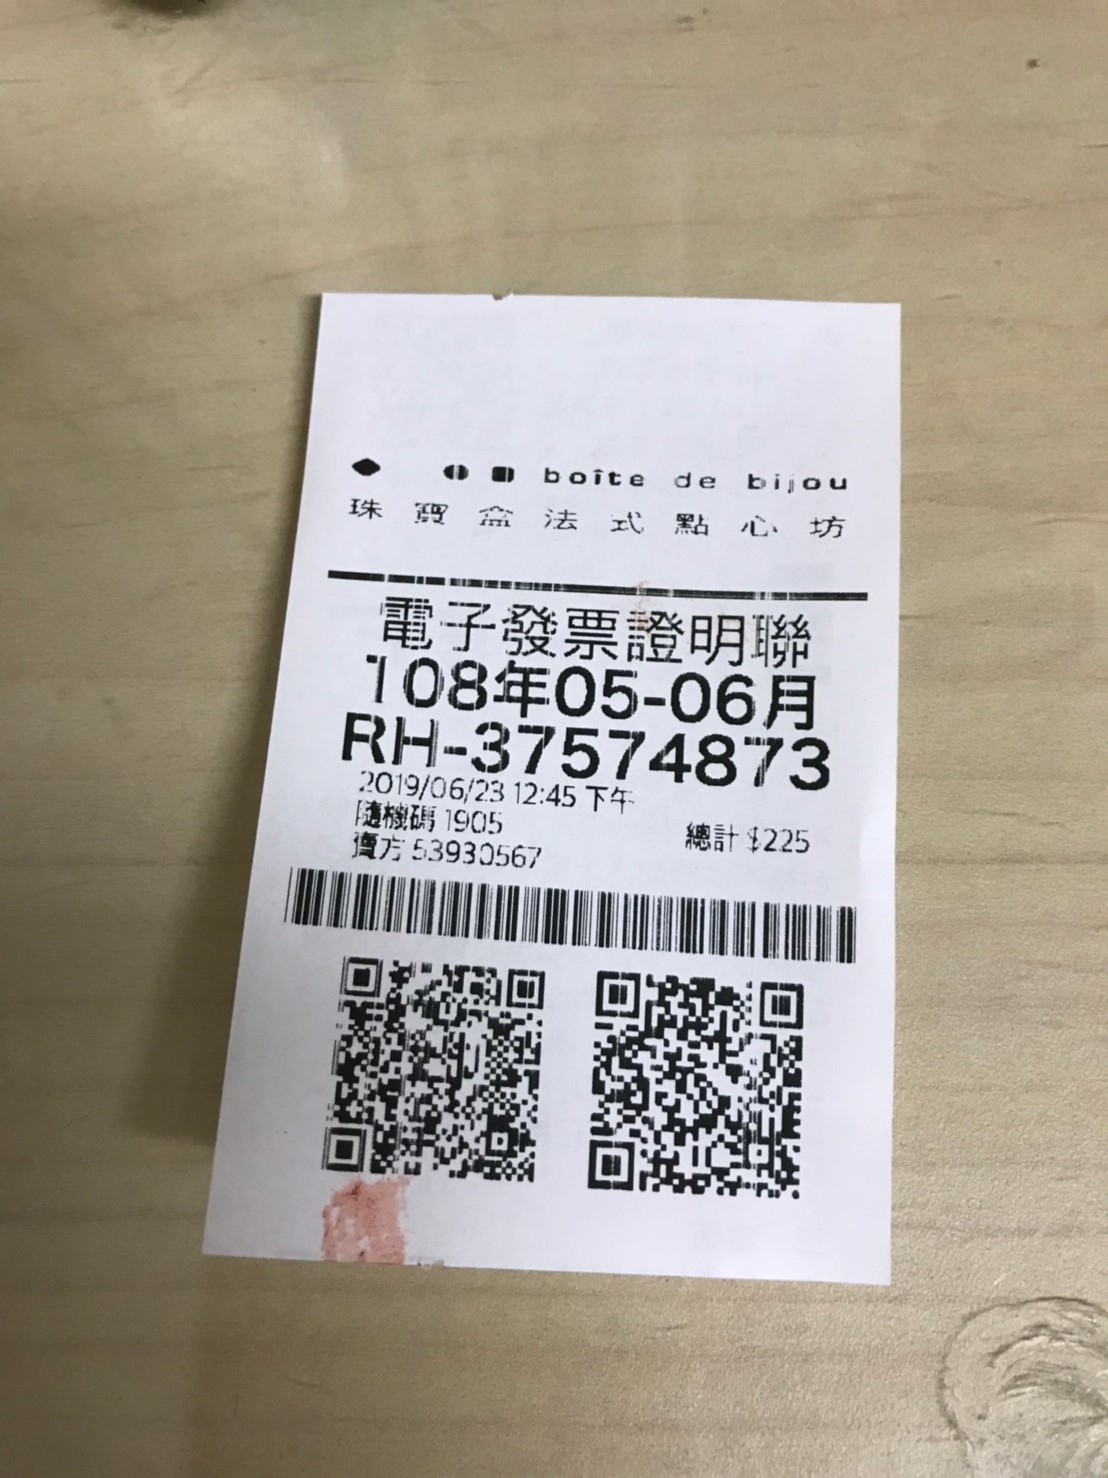Date_New: (358, 649, 818, 736)
Number_New: (469, 713, 834, 794)
